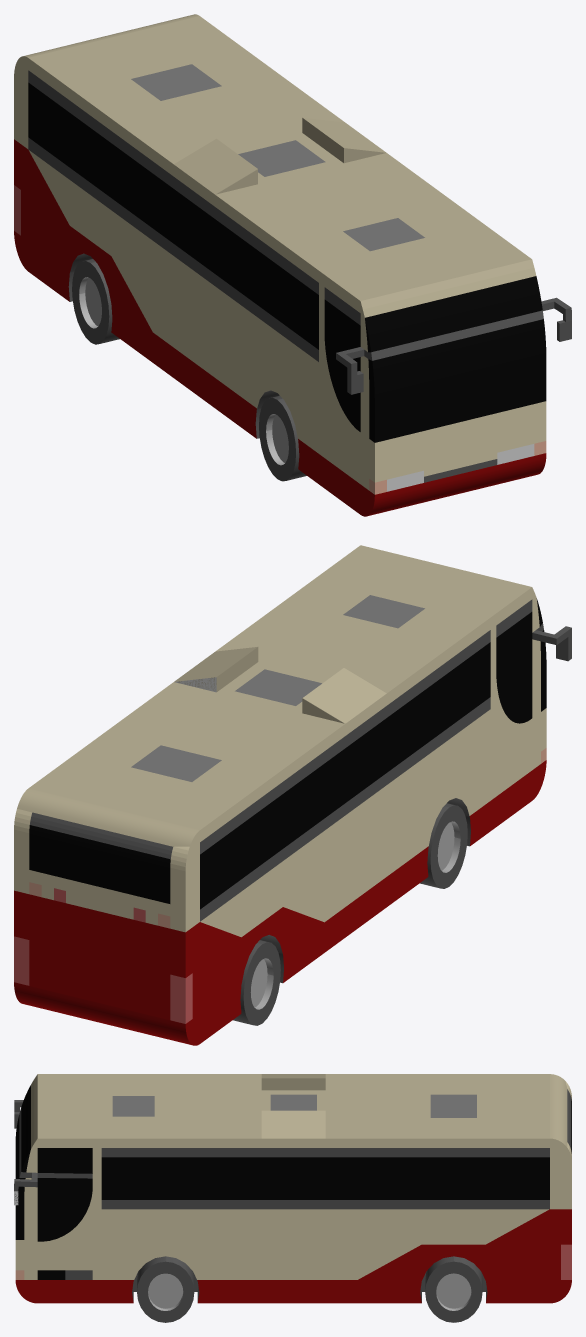
File: plaxton-premiere.dae
3 views of the same model, one above another, from view 1: azimuth 30°, elevation 25°; view 2: azimuth 150°, elevation 25°; view 3: azimuth 270°, elevation 25° (orthographic). The views are drawn at different scales.
Parts seen in each view (by area): view 1: SketchUp_001, SketchUp_023, SketchUp_005, SketchUp_003, SketchUp_008, SketchUp, SketchUp_037, SketchUp_020, SketchUp_022, SketchUp_007, SketchUp_025, SketchUp_038 (+4 smaller); view 2: SketchUp_001, SketchUp_003, SketchUp_023, SketchUp_002, SketchUp_037, SketchUp_020, SketchUp_022, SketchUp_025, SketchUp, SketchUp_035, SketchUp_038, SketchUp_039 (+6 smaller); view 3: SketchUp_001, SketchUp_014, SketchUp_003, SketchUp_037, SketchUp_012, SketchUp_013, SketchUp_010, SketchUp, SketchUp_015, SketchUp_038, SketchUp_007, SketchUp_042 (+6 smaller).
Boxes of the visible parts, x1=… form: SketchUp_001: x1=14, y1=14, x2=546, y2=490; SketchUp_023: x1=28, y1=82, x2=318, y2=349; SketchUp_005: x1=368, y1=319, x2=546, y2=442; SketchUp_003: x1=14, y1=139, x2=256, y2=438; SketchUp_008: x1=365, y1=276, x2=542, y2=352; SketchUp: x1=298, y1=439, x2=546, y2=516; SketchUp_037: x1=68, y1=253, x2=306, y2=481; SketchUp_020: x1=28, y1=137, x2=318, y2=361; SketchUp_022: x1=28, y1=70, x2=318, y2=294; SketchUp_007: x1=336, y1=297, x2=571, y2=394; SketchUp_025: x1=324, y1=299, x2=360, y2=431; SketchUp_038: x1=131, y1=64, x2=221, y2=100; SketchUp_001: x1=14, y1=545, x2=546, y2=937; SketchUp_003: x1=14, y1=846, x2=428, y2=1045; SketchUp_023: x1=200, y1=642, x2=490, y2=909; SketchUp_002: x1=29, y1=825, x2=170, y2=903; SketchUp_037: x1=233, y1=798, x2=470, y2=1025; SketchUp_020: x1=200, y1=697, x2=490, y2=921; SketchUp_022: x1=200, y1=630, x2=490, y2=854; SketchUp_025: x1=496, y1=612, x2=532, y2=723; SketchUp: x1=469, y1=760, x2=546, y2=845; SketchUp_035: x1=30, y1=812, x2=172, y2=859; SketchUp_038: x1=131, y1=745, x2=221, y2=781; SketchUp_039: x1=235, y1=669, x2=321, y2=705; SketchUp_001: x1=15, y1=1074, x2=571, y2=1279; SketchUp_014: x1=101, y1=1157, x2=549, y2=1199; SketchUp_003: x1=197, y1=1209, x2=571, y2=1303; SketchUp_037: x1=132, y1=1256, x2=487, y2=1322; SketchUp_012: x1=101, y1=1148, x2=549, y2=1157; SketchUp_013: x1=101, y1=1200, x2=549, y2=1209; SketchUp_010: x1=37, y1=1178, x2=92, y2=1241; SketchUp: x1=15, y1=1280, x2=133, y2=1303; SketchUp_015: x1=37, y1=1148, x2=92, y2=1173; SketchUp_038: x1=430, y1=1094, x2=476, y2=1117; SketchUp_007: x1=14, y1=1100, x2=92, y2=1205; SketchUp_042: x1=436, y1=1273, x2=471, y2=1310.
Bounding box in the file's own units: 2.53 × 7.19 × 2.79.
